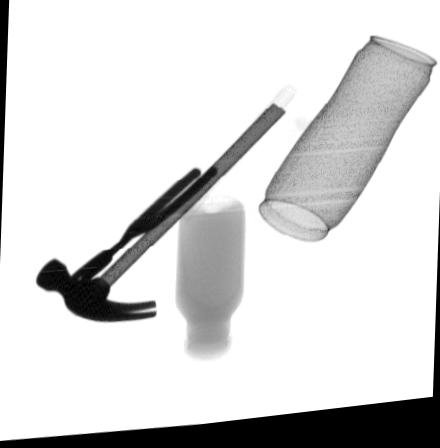Hammer: (33, 110, 286, 323)
Pliers: (68, 170, 216, 289)
